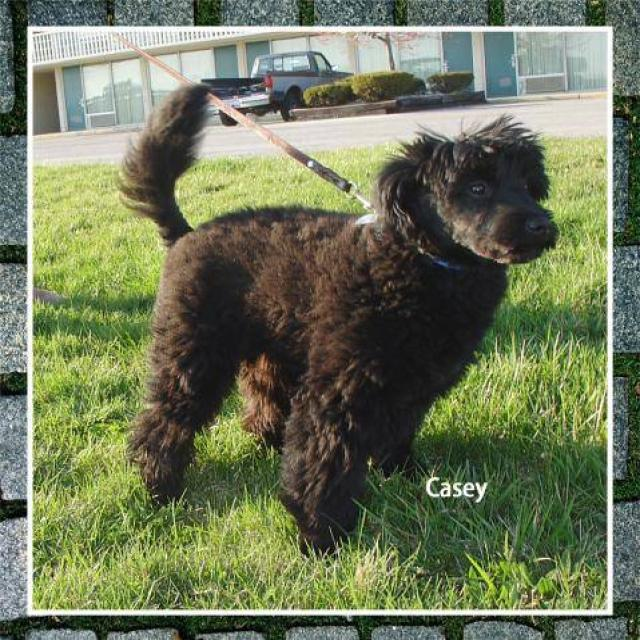Dog: (352, 96, 573, 300)
